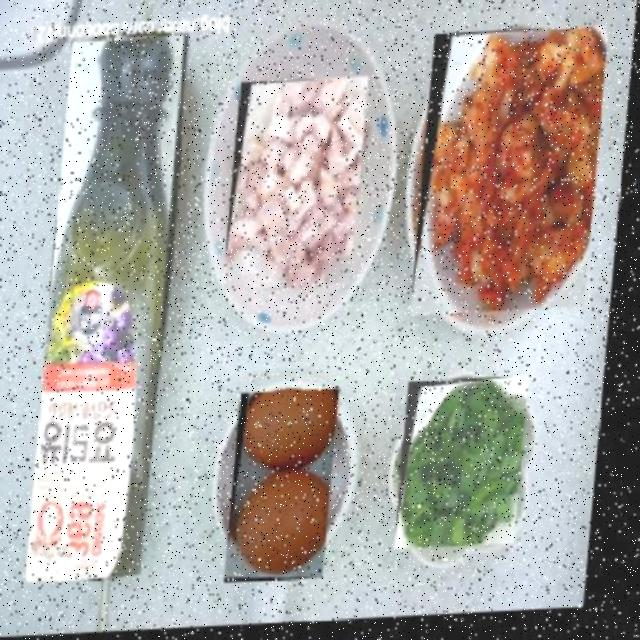Egg: (233, 391, 347, 586)
Kimchi: (415, 30, 610, 321)
Onion Leaves: (398, 379, 524, 552)
Pork: (226, 79, 371, 292)
